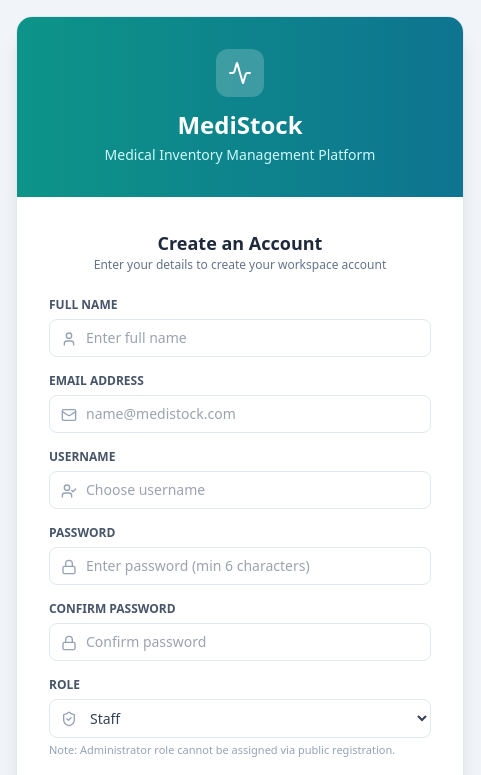
Test case: MediStock Frontend Components › Create Account Page (Register) › validates that password and confirm password match
Type "Alex Morgan" into the field with placeholder "Enter full name".
click(240, 338); type("Alex Morgan")  # box x1=49 y1=319 x2=431 y2=357
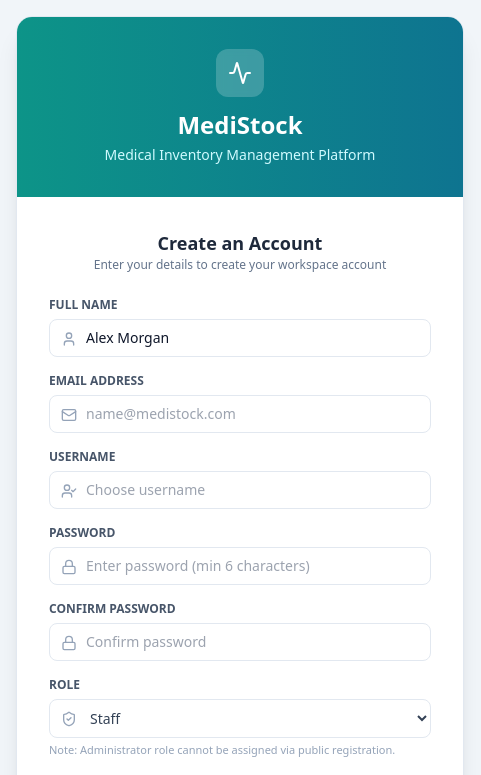
Type "alex@medistock.com" into the field with placeholder "name@medistock.com".
click(240, 414); type("alex@medistock.com")  # box x1=49 y1=395 x2=431 y2=433
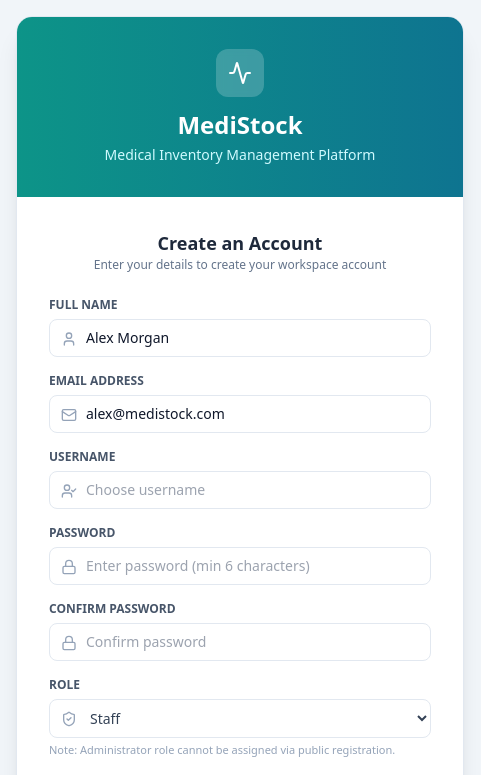
Type "alexm" into the field with placeholder "Choose username".
click(240, 490); type("alexm")  # box x1=49 y1=471 x2=431 y2=509
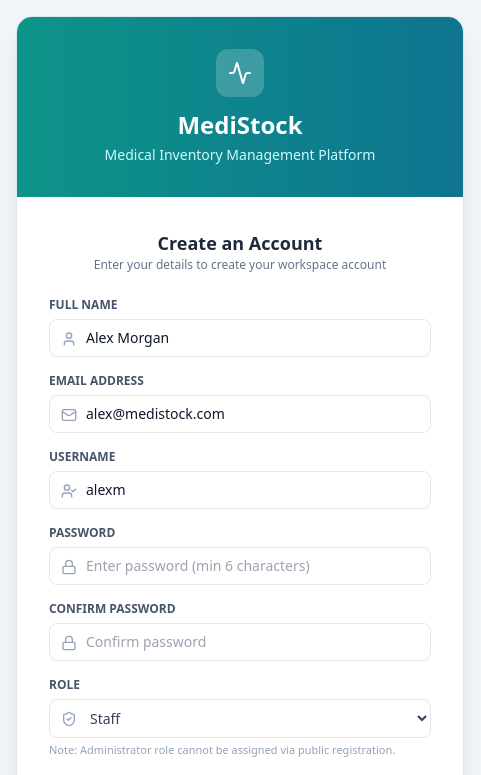
Type "password123" into the password field with placeholder "Enter password (min 6 characters)".
click(240, 566); type("password123")  # box x1=49 y1=547 x2=431 y2=585
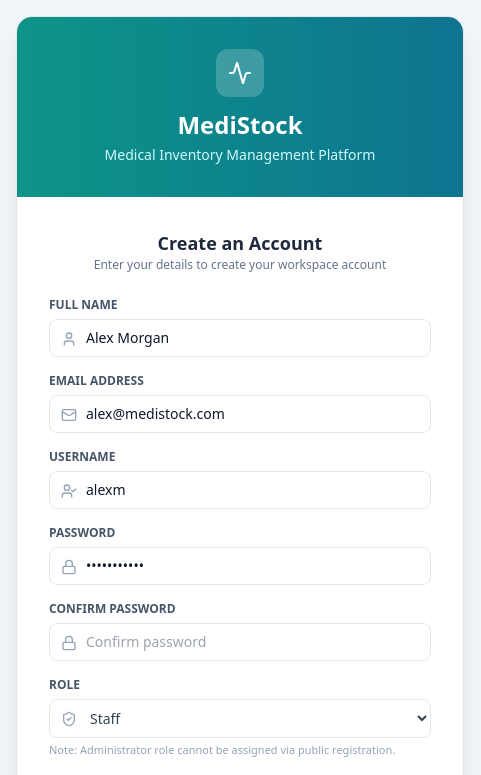
Type "differentpassword" into the password field with placeholder "Confirm Password".
click(240, 642); type("differentpassword")  # box x1=49 y1=623 x2=431 y2=661
(page scrolled)
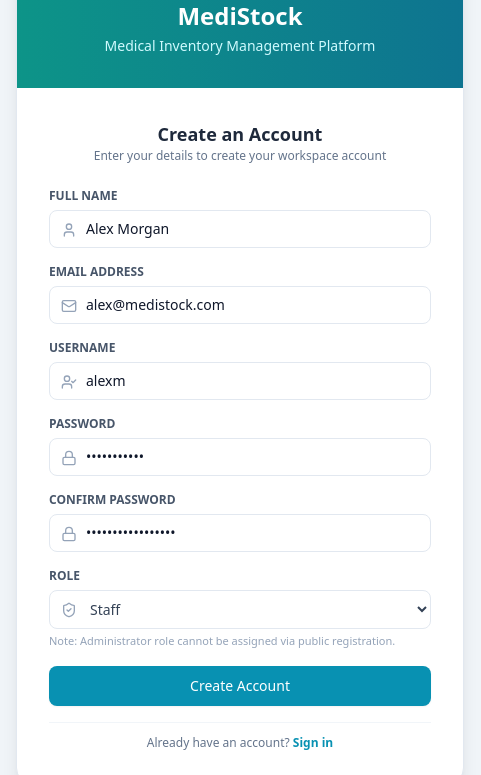
Click the button "Create Account".
click(240, 686)  # box x1=49 y1=666 x2=431 y2=706
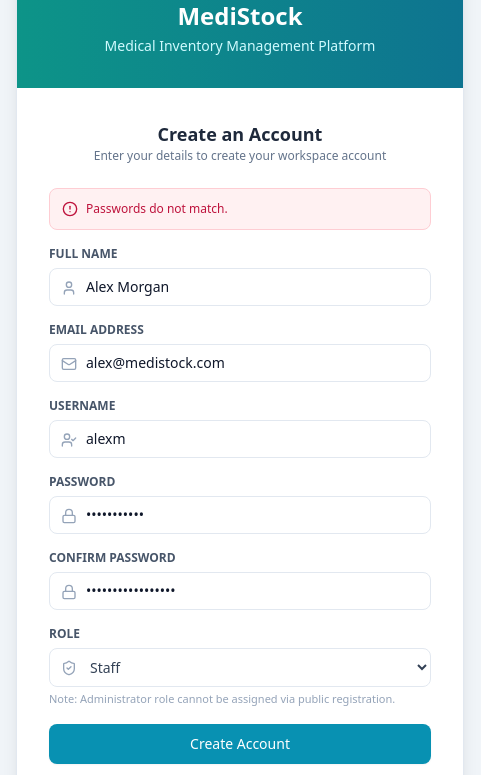
Expected: the text "Passwords do not match." is shown, x1=86 y1=201 x2=228 y2=217
